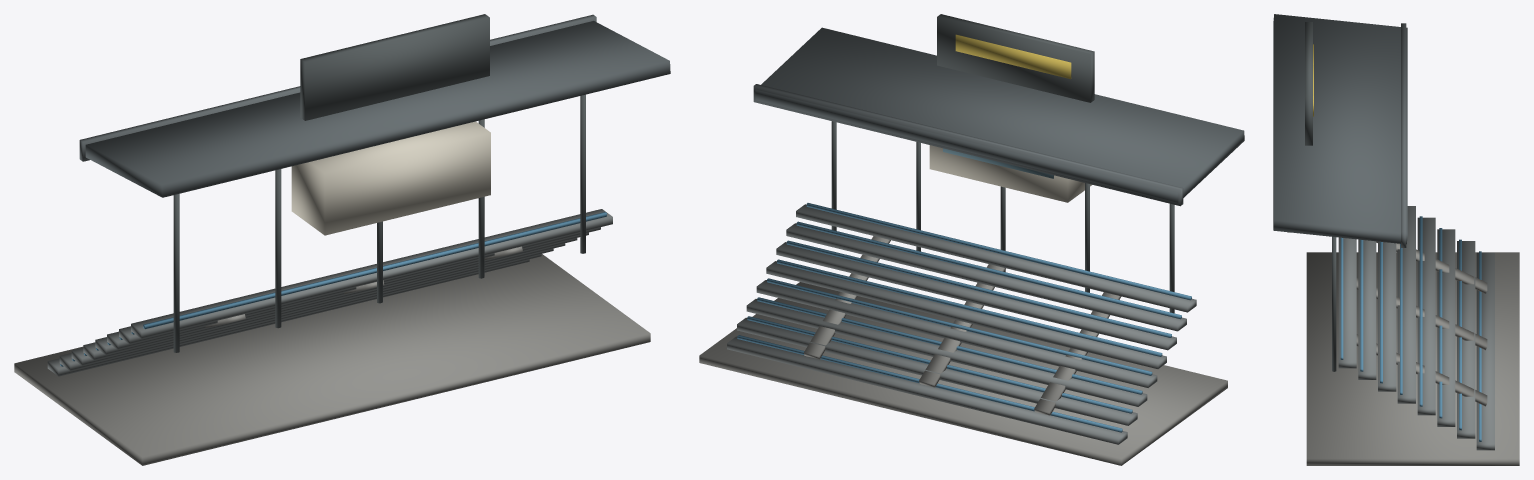
The model's file is grandstand.glb.
3 views of the same model, side by side, from view 1: azimuth 30°, elevation 25°; view 2: azimuth 150°, elevation 25°; view 3: azimuth 270°, elevation 25° (orthographic). The views are drawn at different scales.
Visible parts, largest first — view 1: world; view 2: world; view 3: world.
Boxes of the visible parts, x1,y1,x2,y2 form: world: (14, 14, 670, 465); world: (699, 14, 1244, 465); world: (1273, 14, 1519, 465).
Bounding box in the file's own units: 28 × 19 × 14.
